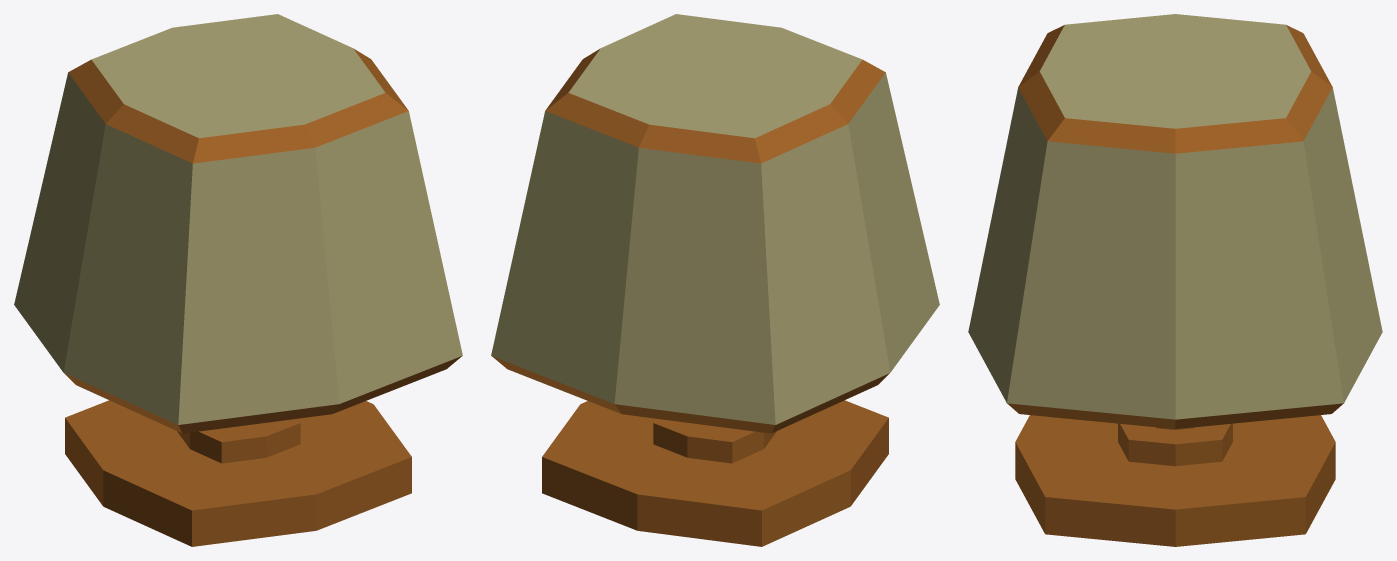
Rendered from Vintage_Nightstand_Lamp_1.fbx.
3 renders of one model, left to right at view 1: azimuth 30°, elevation 25°; view 2: azimuth 150°, elevation 25°; view 3: azimuth 270°, elevation 25°, orthographic. The views are drawn at different scales.
Parts seen in each view (by area): view 1: Vintage_Nightstand_Lamp_1; view 2: Vintage_Nightstand_Lamp_1; view 3: Vintage_Nightstand_Lamp_1.
Part boxes in pixels (x1=…): Vintage_Nightstand_Lamp_1: x1=14, y1=14, x2=462, y2=546; Vintage_Nightstand_Lamp_1: x1=491, y1=14, x2=939, y2=546; Vintage_Nightstand_Lamp_1: x1=968, y1=14, x2=1382, y2=546.
Size of the model in its own units: 1117 by 1213 by 1117.
